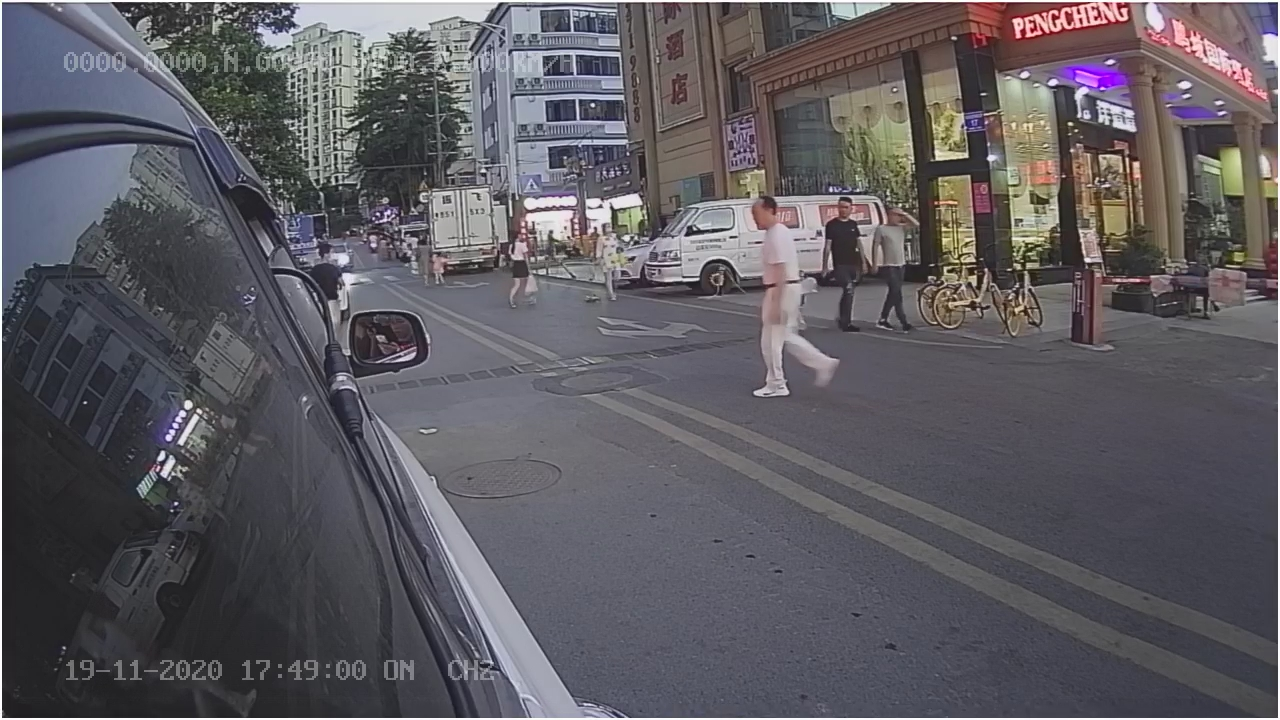person: (740, 190, 839, 402)
